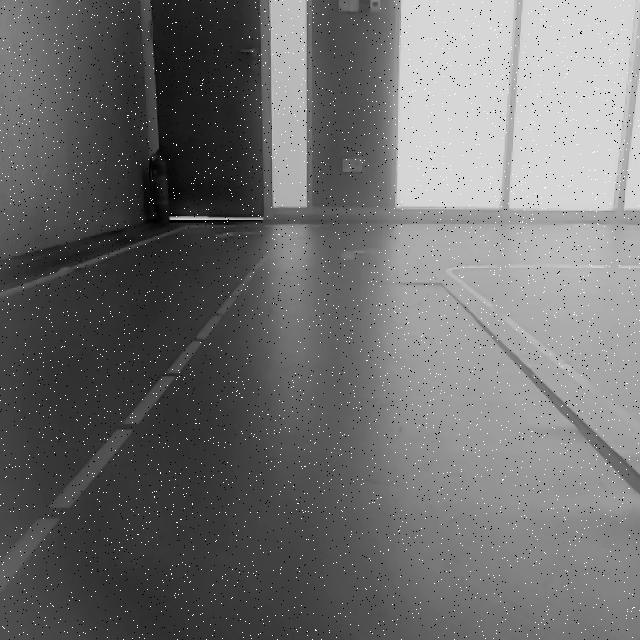left_lane: (0, 244, 277, 593)
right_lane: (450, 275, 640, 462)
